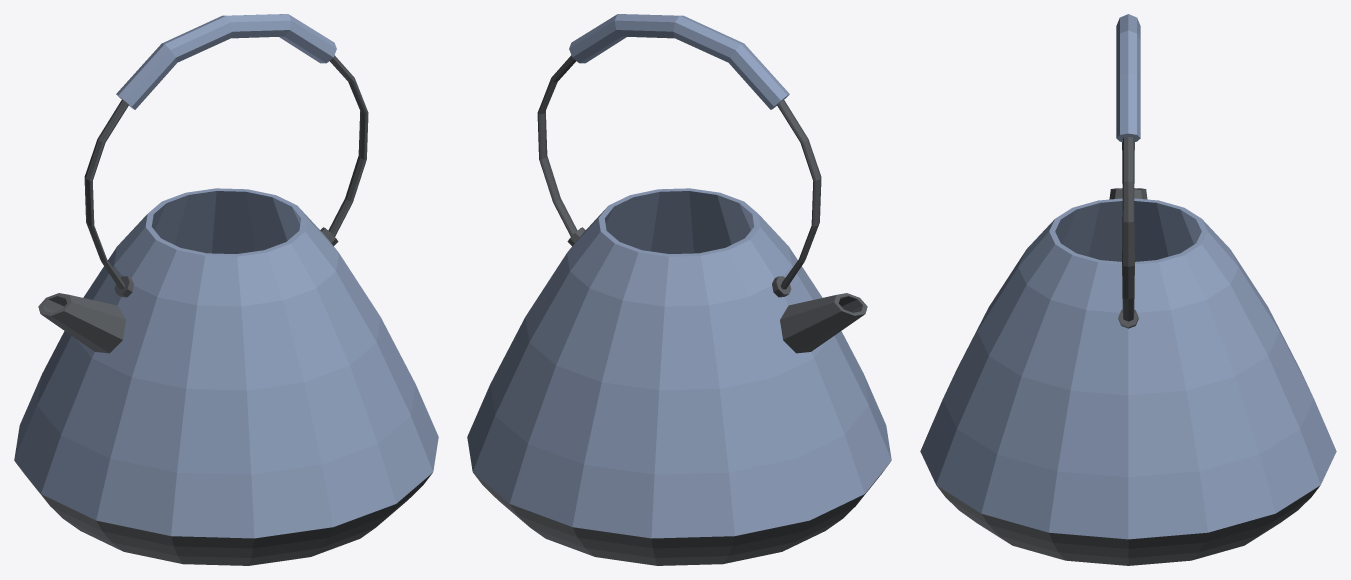
File: Kettle2_C1_01.fbx
3 views of the same model, side by side, from view 1: azimuth 30°, elevation 25°; view 2: azimuth 150°, elevation 25°; view 3: azimuth 270°, elevation 25° (orthographic). The views are drawn at different scales.
Visible parts, largest first — view 1: Kettle2_C1_01; view 2: Kettle2_C1_01; view 3: Kettle2_C1_01.
Part boxes in pixels (bbox=[...]): Kettle2_C1_01: bbox=[14, 14, 438, 565]; Kettle2_C1_01: bbox=[467, 14, 891, 565]; Kettle2_C1_01: bbox=[920, 14, 1336, 565].
Size of the model in its own units: 35.67 by 44 by 35.61.
